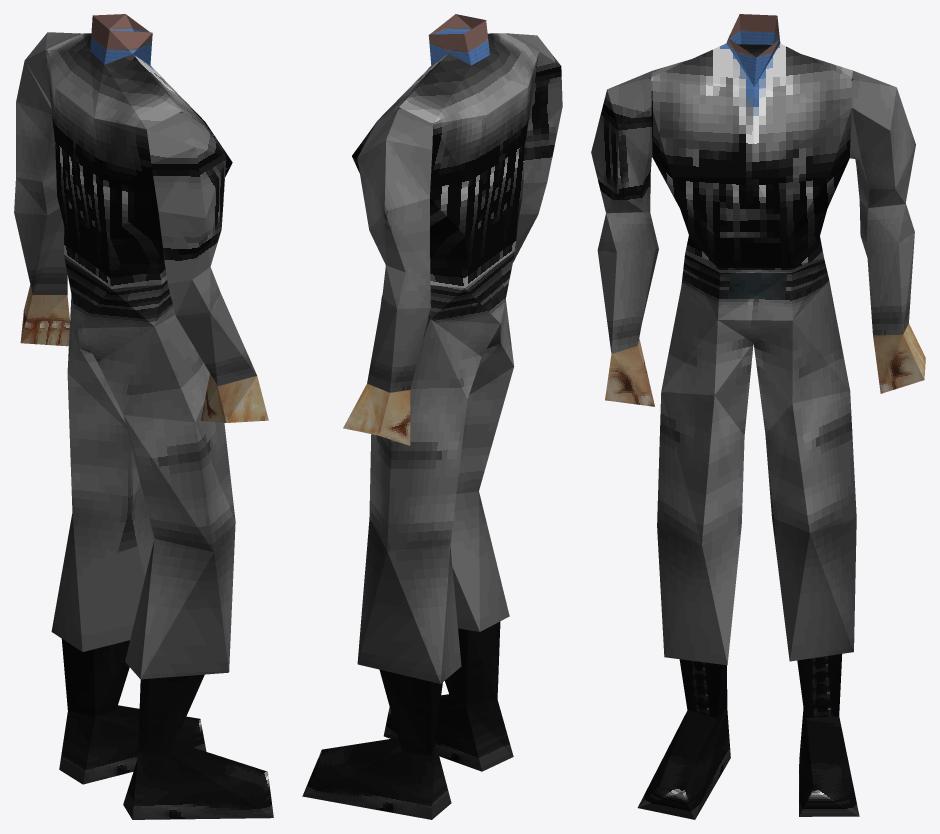
Rendered from primary_008.glb.
3 renders of one model, left to right at view 1: azimuth 30°, elevation 25°; view 2: azimuth 150°, elevation 25°; view 3: azimuth 270°, elevation 25°, orthographic. The views are drawn at different scales.
Parts seen in each view (by area): view 1: Object; view 2: Object; view 3: Object.
Boxes of the visible parts, x1=… form: Object: x1=14, y1=14, x2=273, y2=819; Object: x1=302, y1=14, x2=562, y2=819; Object: x1=591, y1=14, x2=925, y2=819.
Bounding box in the file's own units: 0.3888 × 1.83 × 0.7428.
Materials: 69 (69 with a texture image).
